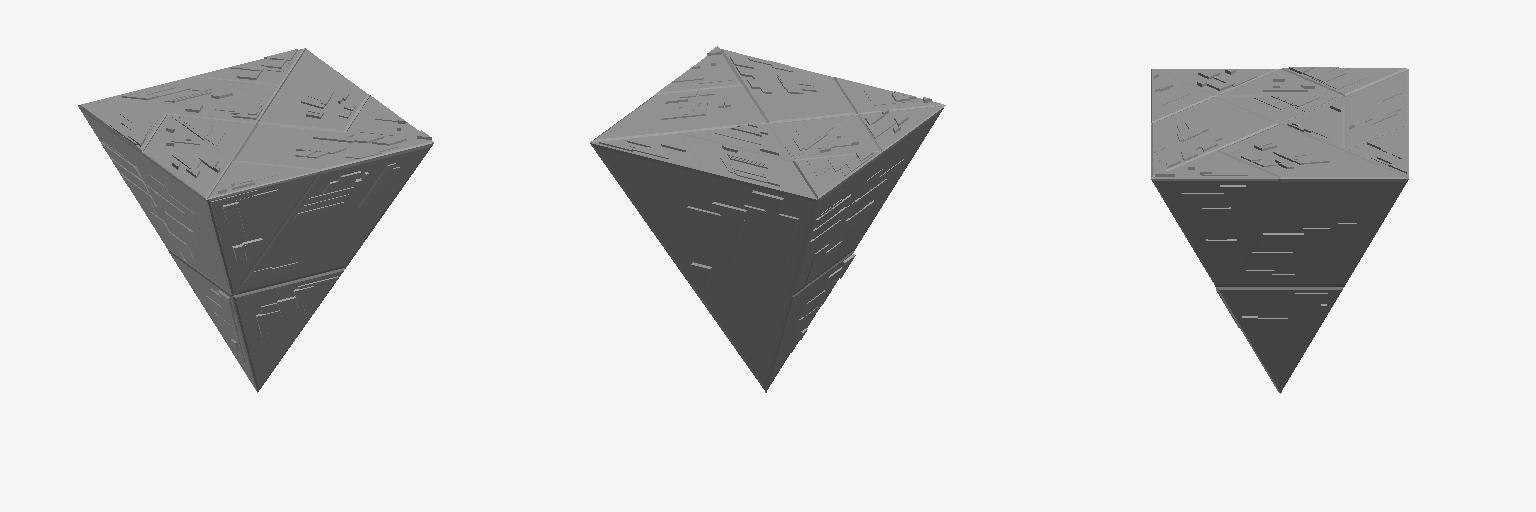
The model's file is Alien_Artifact_01.obj.
The picture shows the model from 3 angles: view 1: azimuth 30°, elevation 25°; view 2: azimuth 150°, elevation 25°; view 3: azimuth 270°, elevation 25°; orthographic projection.
Parts seen in each view (by area): view 1: Alien_Artifact_04; view 2: Alien_Artifact_04; view 3: Alien_Artifact_04.
Part boxes in pixels (x1,y1,x2,y2): Alien_Artifact_04: (78,48,433,392); Alien_Artifact_04: (590,46,945,392); Alien_Artifact_04: (1151,67,1408,393).
Size of the model in its own units: 16.42 by 18.92 by 16.1.